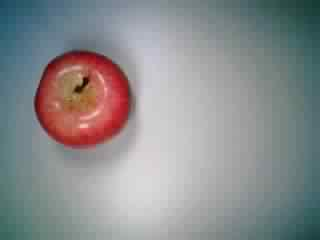apple: (34, 48, 138, 149)
